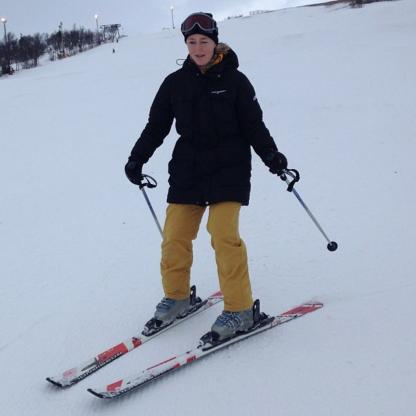Helmet: (178, 13, 226, 71)
